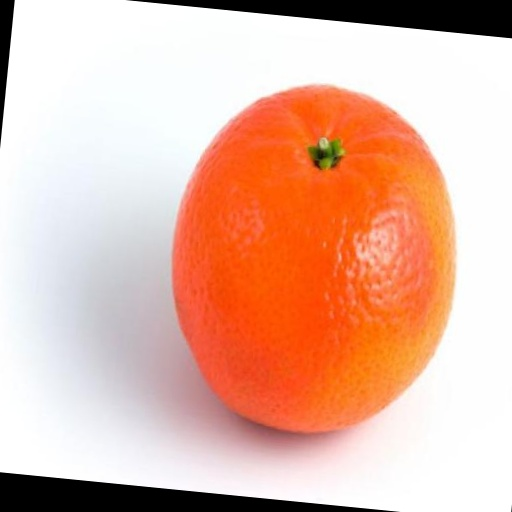fruit: (172, 85, 455, 432)
